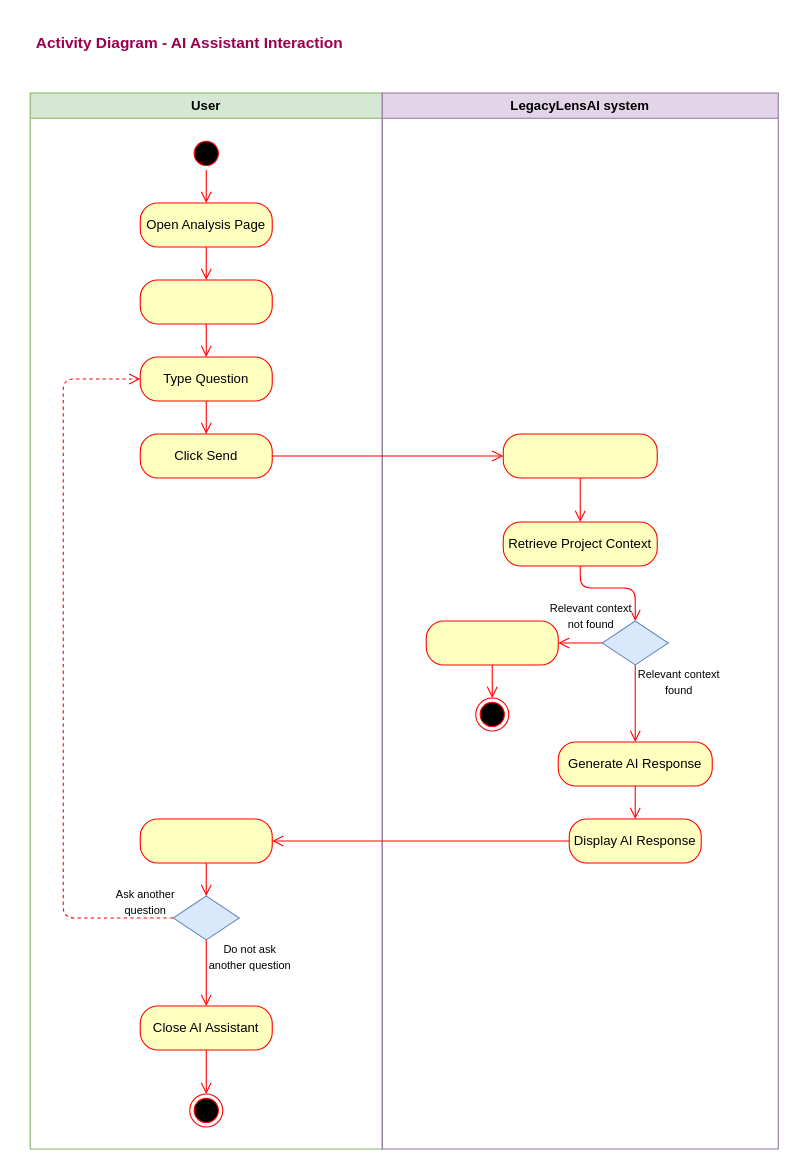
Some shapes in this 798 by 1168 pixel diagram are drawn without their labels. Each missing label, with the centre of its shape:
AI Assistant Ready: the point at 205,301
Display "Insufficient project information.": the point at 491,642
Read Response: the point at 205,840
Receive User Question: the point at 579,455
